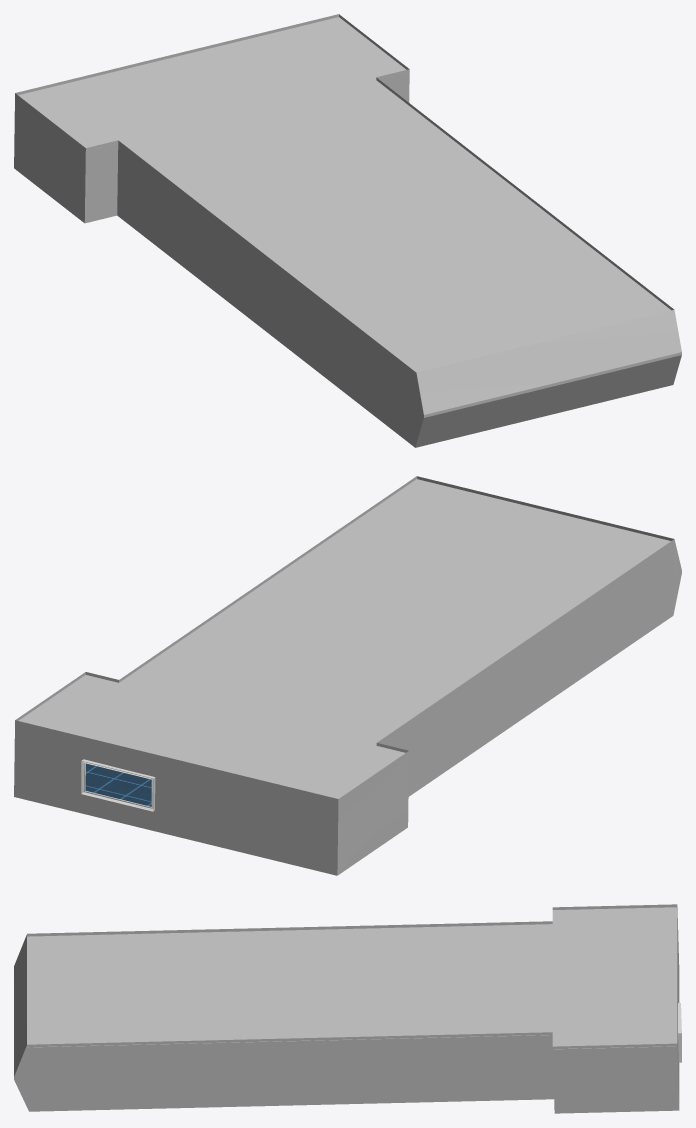
Rendered from Room 1.fbx.
The picture shows the model from 3 angles, top to bottom: view 1: azimuth 30°, elevation 25°; view 2: azimuth 150°, elevation 25°; view 3: azimuth 270°, elevation 25°; orthographic projection. The views are drawn at different scales.
Parts seen in each view (by area): view 1: Roof, Room1; view 2: Roof, Room1, Floor, Window Frame; view 3: Roof, Room1.
Boxes of the visible parts, x1=… form: Roof: x1=18, y1=17, x2=671, y2=372; Room1: x1=14, y1=14, x2=681, y2=447; Roof: x1=18, y1=479, x2=670, y2=798; Room1: x1=14, y1=476, x2=681, y2=875; Floor: x1=85, y1=763, x2=151, y2=806; Window Frame: x1=81, y1=759, x2=155, y2=811; Roof: x1=27, y1=907, x2=677, y2=1049; Room1: x1=14, y1=904, x2=679, y2=1113.
Bounding box in the file's own units: 4594 × 1266 × 9297.
